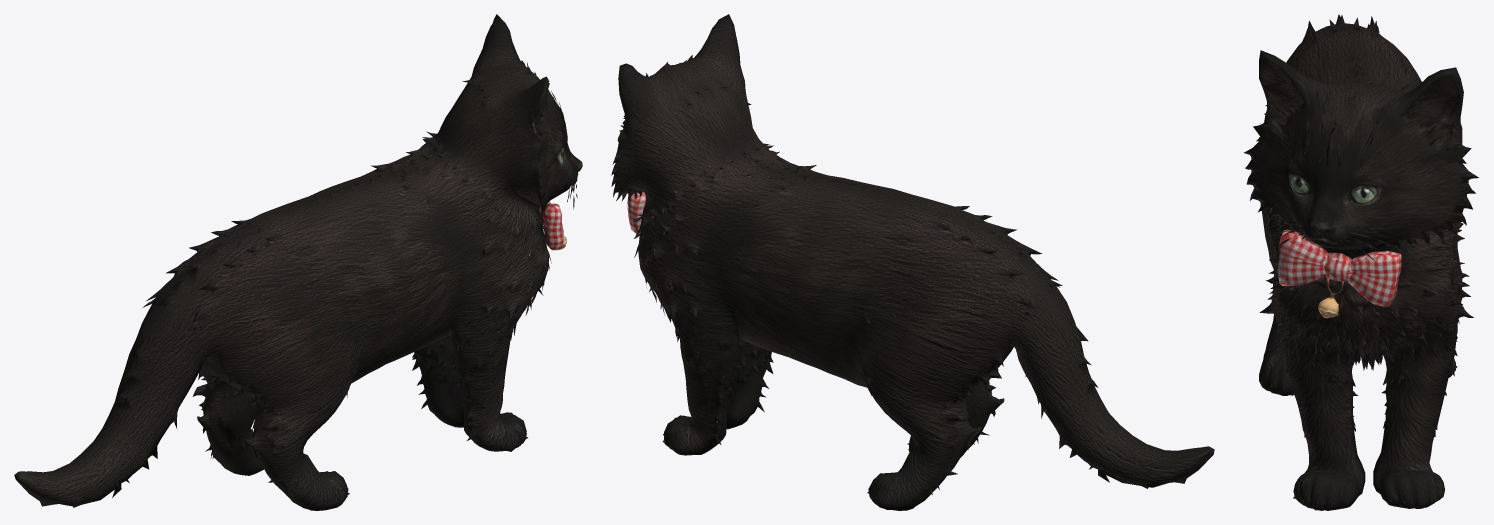
The model's file is koharu.glb.
The picture shows the model from 3 angles, left to right: view 1: azimuth 30°, elevation 25°; view 2: azimuth 150°, elevation 25°; view 3: azimuth 270°, elevation 25°; orthographic projection. The views are drawn at different scales.
Parts seen in each view (by area): view 1: tripo_node_755c0e5b-8a34-4f8a-8856-dcd3d8f14b26; view 2: tripo_node_755c0e5b-8a34-4f8a-8856-dcd3d8f14b26; view 3: tripo_node_755c0e5b-8a34-4f8a-8856-dcd3d8f14b26.
Part boxes in pixels (bbox=[...]): tripo_node_755c0e5b-8a34-4f8a-8856-dcd3d8f14b26: bbox=[14, 14, 582, 510]; tripo_node_755c0e5b-8a34-4f8a-8856-dcd3d8f14b26: bbox=[611, 14, 1214, 510]; tripo_node_755c0e5b-8a34-4f8a-8856-dcd3d8f14b26: bbox=[1243, 14, 1478, 510].
Bounding box in the file's own units: 0.998 × 0.6426 × 0.2949.
1 material, 1 textured.
